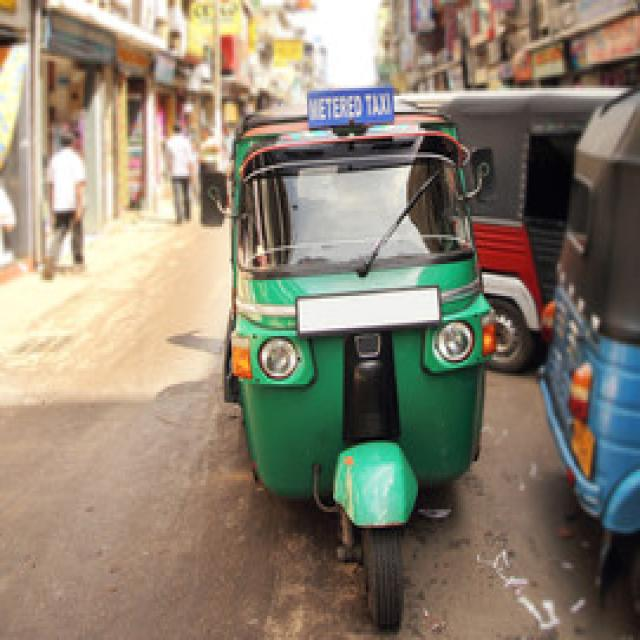person: (45, 133, 83, 277), (165, 125, 189, 224)
three wheeler: (224, 88, 494, 629), (397, 88, 621, 371), (541, 91, 638, 563)
